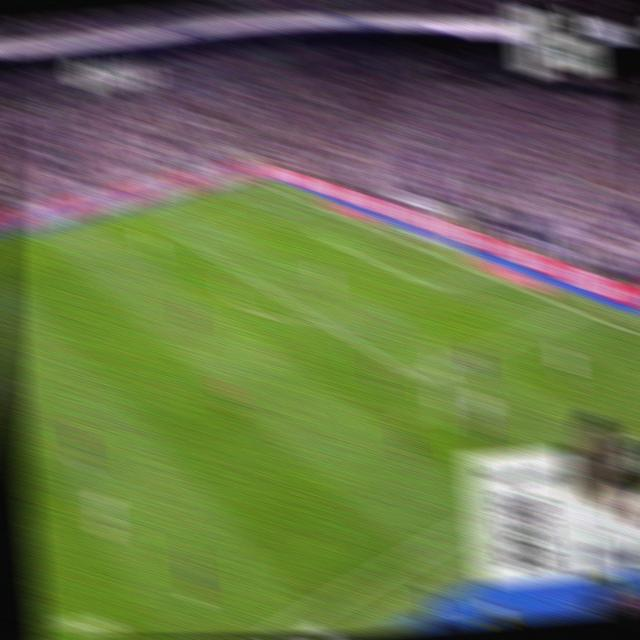bigarea_bottom_inner: (403, 363, 428, 391)
bigarea_top_inner: (175, 229, 195, 245)
bigarea_top_outter: (297, 194, 318, 209)
bottom_arc_area_intersection: (306, 306, 328, 329)
corner: (244, 174, 263, 185)
smallarea_bottom_inner: (423, 278, 445, 298)
smallarea_top_inner: (315, 231, 332, 243)
top_arc_area_intersection: (228, 260, 248, 278)
